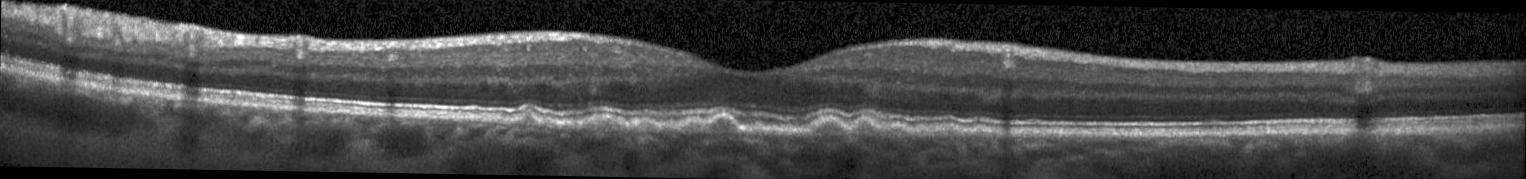retinal_drusen: (582, 116, 628, 134), (815, 119, 848, 138), (709, 115, 739, 135), (852, 119, 878, 138), (884, 126, 911, 141), (634, 119, 660, 133), (966, 127, 998, 137), (681, 120, 704, 133), (934, 126, 960, 137), (520, 110, 537, 126), (657, 125, 681, 136), (915, 128, 931, 138)
